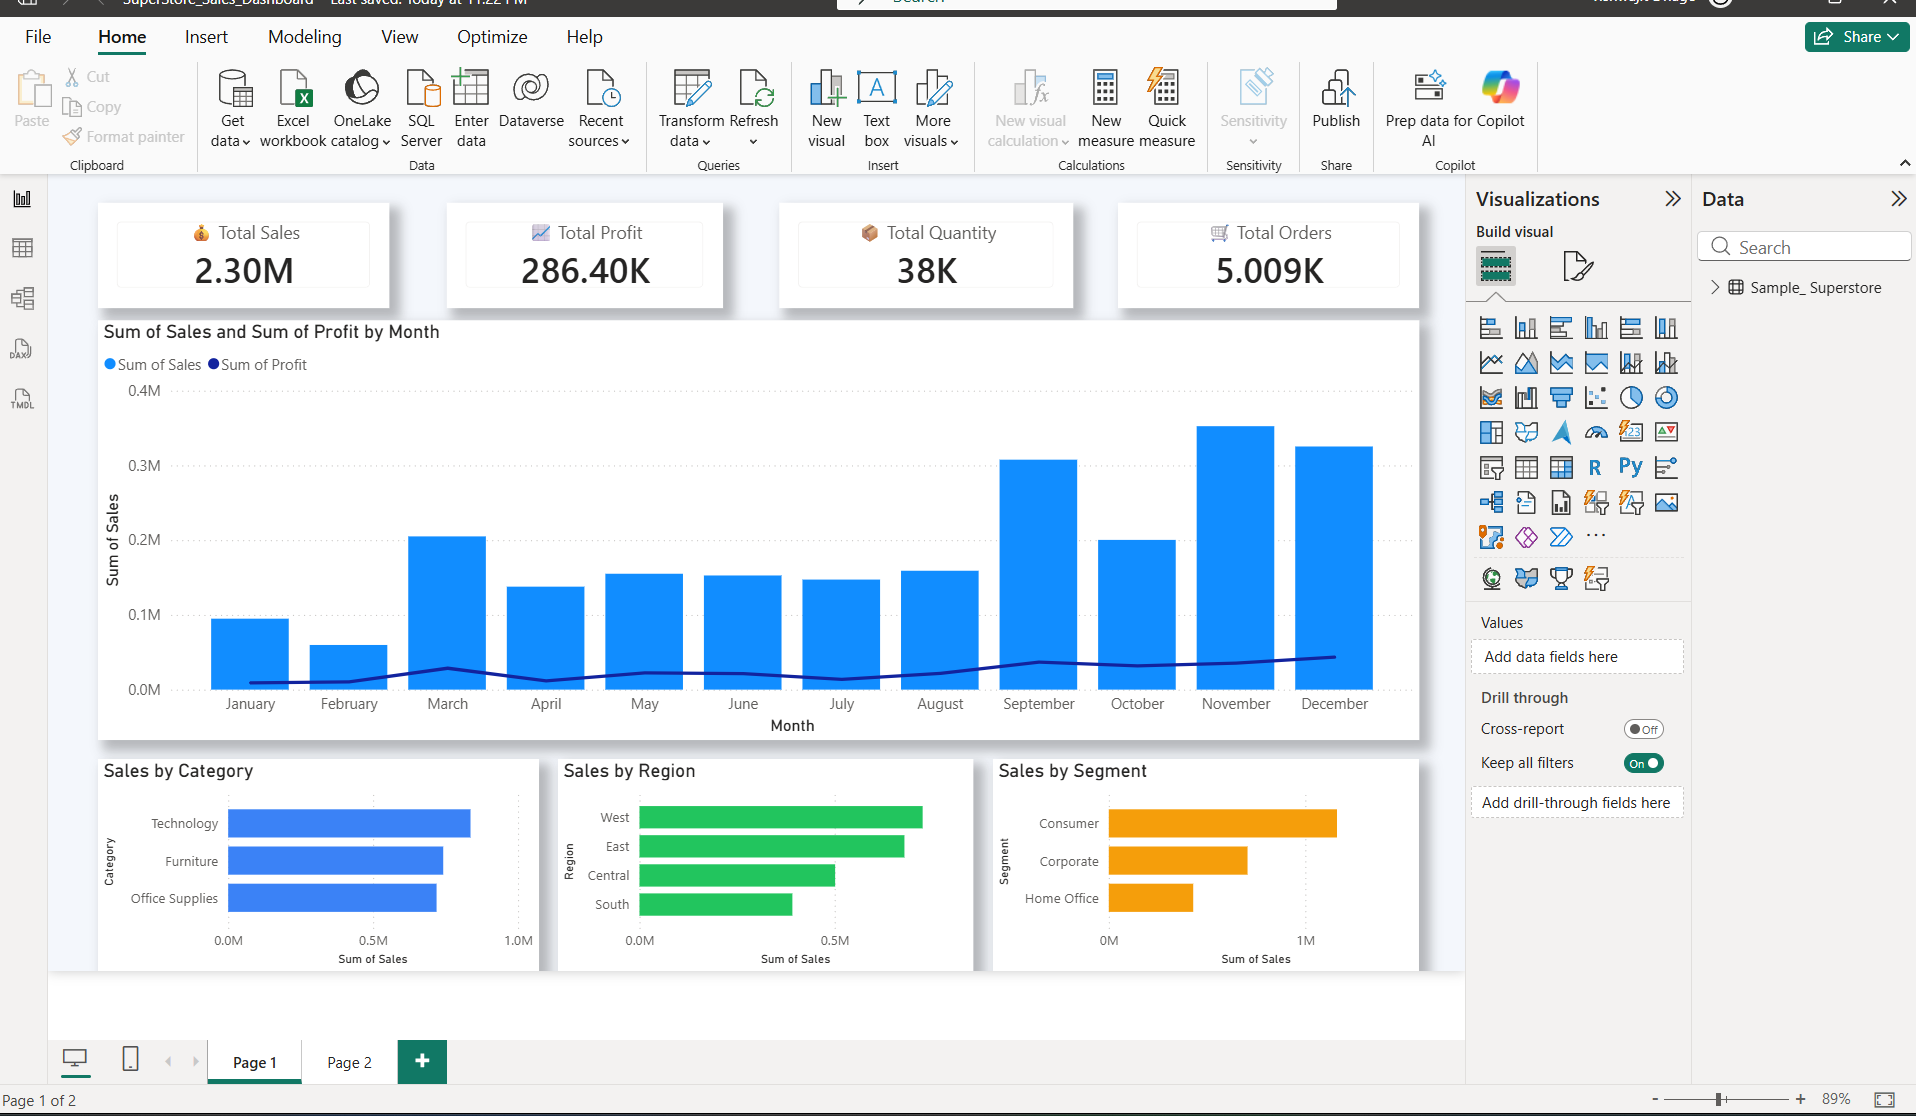

Layout of this report page (visuals, bound fields, positions):
{"tool":"powerbi","page":{"name":"Page 1","canvas":[1280,720],"ordinal":0},"visuals":[{"type":"cardVisual","fields":{"Data":["Sum(Sample_ Superstore.Sales)"]},"box":[45.2,26,263.1,94.8],"z":0},{"type":"cardVisual","fields":{"Data":["Sum(Sample_ Superstore.Profit)"]},"box":[360.2,26,249.5,94.8],"z":1000},{"type":"cardVisual","fields":{"Data":["Sum(Sample_ Superstore.Quantity)"]},"box":[660.6,26,265.4,94.8],"z":2000},{"type":"cardVisual","fields":{"Data":["Count(Sample_ Superstore.Order ID)"]},"box":[966.6,26,272.1,94.8],"z":3000},{"type":"lineStackedColumnComboChart","fields":{"Y2":["Sum(Sample_ Superstore.Profit)"],"Y":["Sum(Sample_ Superstore.Sales)"],"Category":["Sample_ Superstore.Order Date.Variation.Date Hierarchy.Month"]},"box":[45.2,132.1,1193.5,379.4],"z":4000},{"type":"barChart","title":"Sales by Category","fields":{"Category":["Sample_ Superstore.Category"],"Y":["Sum(Sample_ Superstore.Sales)"]},"box":[45.2,528.4,398.6,192],"z":5000},{"type":"barChart","title":"Sales by Region","fields":{"Category":["Sample_ Superstore.Region"],"Y":["Sum(Sample_ Superstore.Sales)"]},"box":[460.7,528.4,374.9,192],"z":6000},{"type":"barChart","title":"Sales by Segment","fields":{"Category":["Sample_ Superstore.Segment"],"Y":["Sum(Sample_ Superstore.Sales)"]},"box":[853.6,528.4,385,192],"z":7000}]}

Visuals, with their boxes on the page's 1280x720 design canvas (x1, y1, x2, y2). These are canvas units, not pixel positions in the 1916x1116 screenshot, which may show the page scaled, cropped or inside an application window:
cardVisual - Sum(Sample_ Superstore.Sales): bbox=[45, 26, 308, 121]
cardVisual - Sum(Sample_ Superstore.Profit): bbox=[360, 26, 610, 121]
cardVisual - Sum(Sample_ Superstore.Quantity): bbox=[661, 26, 926, 121]
cardVisual - Count(Sample_ Superstore.Order ID): bbox=[967, 26, 1239, 121]
lineStackedColumnComboChart - Sum(Sample_ Superstore.Profit) x Sum(Sample_ Superstore.Sales): bbox=[45, 132, 1239, 512]
"Sales by Category" barChart: bbox=[45, 528, 444, 720]
"Sales by Region" barChart: bbox=[461, 528, 836, 720]
"Sales by Segment" barChart: bbox=[854, 528, 1239, 720]
